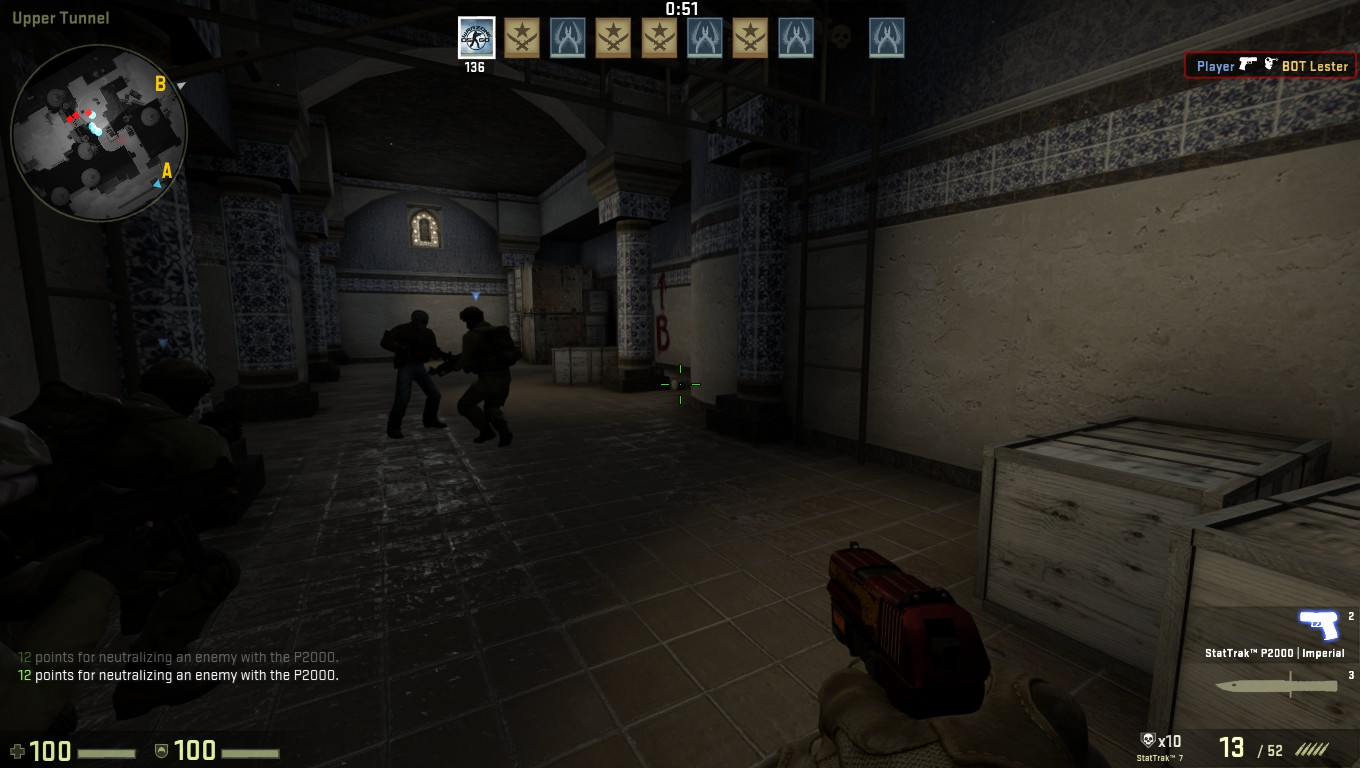c: (38, 346, 234, 723), (442, 292, 528, 445)
ch: (114, 350, 225, 437), (457, 299, 491, 341)
t: (376, 306, 456, 441)
th: (404, 309, 436, 335)
